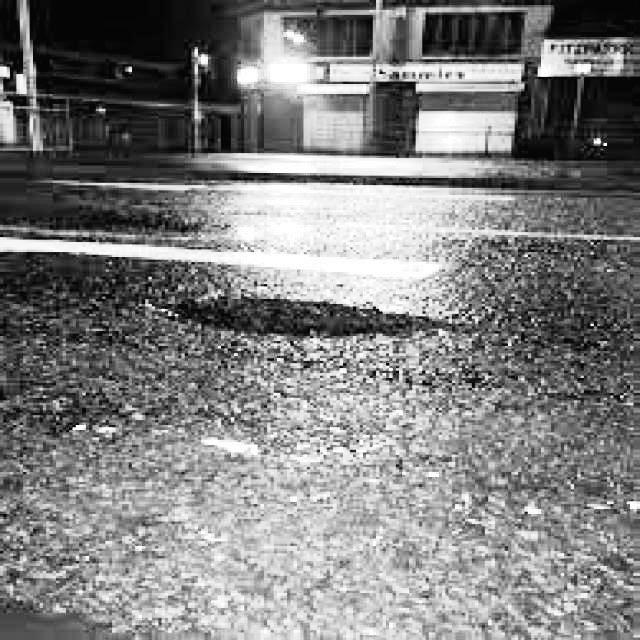Pothole: (162, 276, 445, 370)
